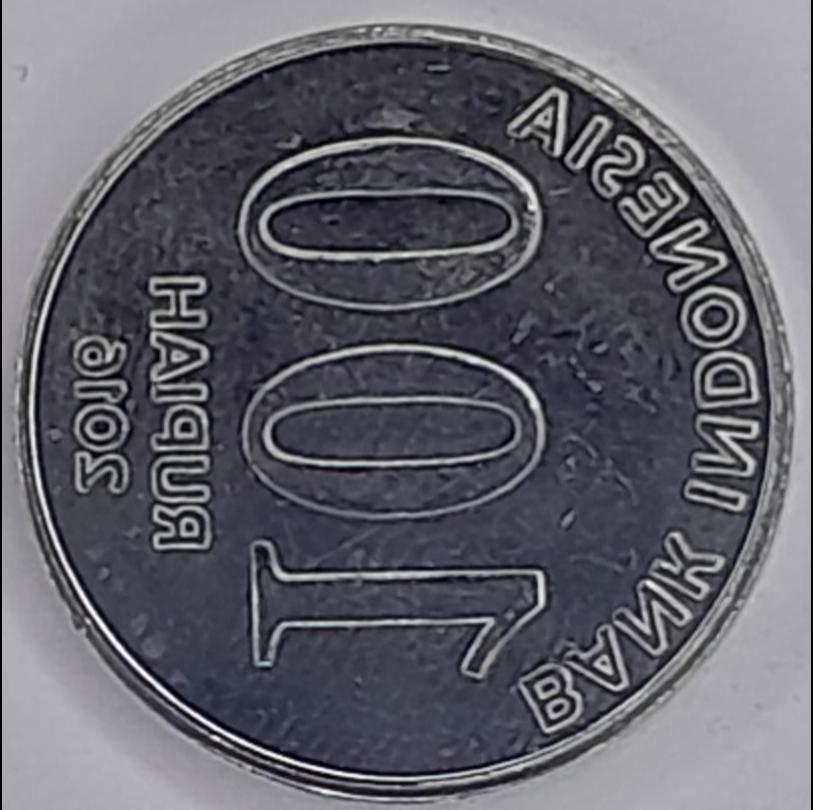coin_100_e2016: (10, 17, 798, 803)
